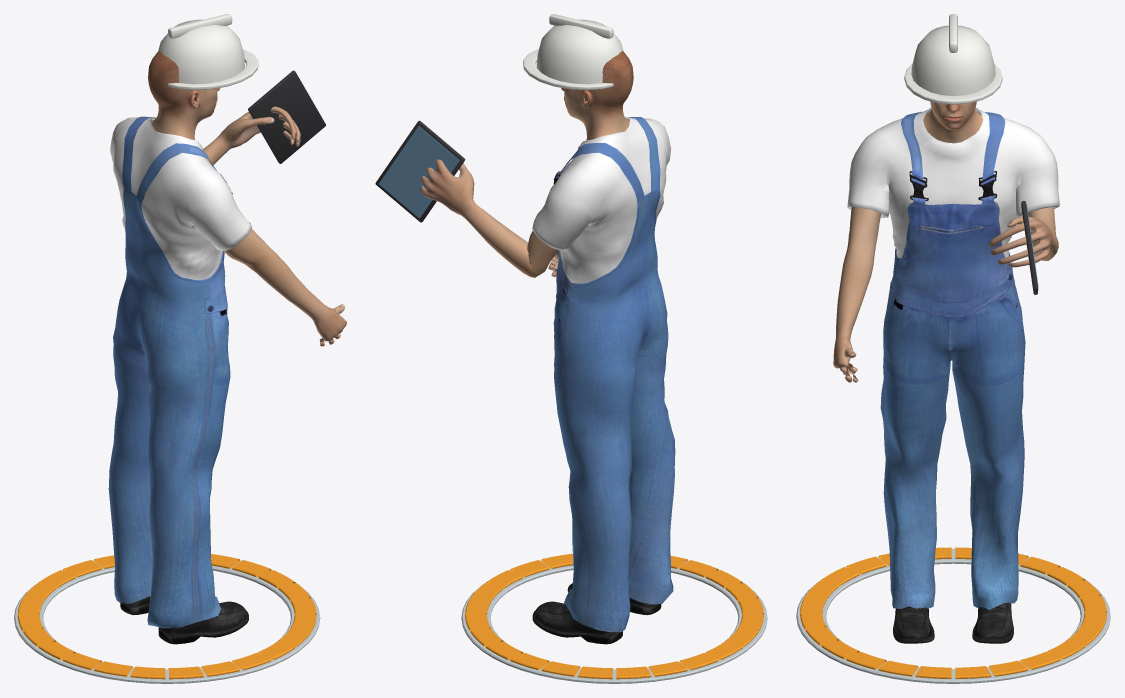
File: MDO-TEC-001.glb
3 renders of one model, left to right at view 1: azimuth 30°, elevation 25°; view 2: azimuth 150°, elevation 25°; view 3: azimuth 270°, elevation 25°, orthographic. The views are drawn at different scales.
Visible parts, largest first — view 1: MDO-TEC-001_pessoa_male_worksuit01, MDO-TEC-001_pessoa, MDO-TEC-001_capacete, MDO-TEC-001_anel_fundo, MDO-TEC-001_ferE_tablet, MDO-TEC-001_pessoa_shoes04, MDO-TEC-001_capacete_aba, MDO-TEC-001_capacete_friso; view 2: MDO-TEC-001_pessoa_male_worksuit01, MDO-TEC-001_pessoa, MDO-TEC-001_capacete, MDO-TEC-001_anel_fundo, MDO-TEC-001_ferE_tela, MDO-TEC-001_pessoa_shoes04, MDO-TEC-001_ferE_tablet, MDO-TEC-001_capacete_aba, MDO-TEC-001_capacete_friso; view 3: MDO-TEC-001_pessoa_male_worksuit01, MDO-TEC-001_pessoa, MDO-TEC-001_capacete, MDO-TEC-001_anel_fundo, MDO-TEC-001_pessoa_shoes04, MDO-TEC-001_capacete_aba, MDO-TEC-001_ferE_tablet.
Boxes of the visible parts, bbox=[...] form: MDO-TEC-001_pessoa_male_worksuit01: bbox=[108, 116, 252, 628]; MDO-TEC-001_pessoa: bbox=[148, 51, 346, 346]; MDO-TEC-001_capacete: bbox=[158, 19, 244, 84]; MDO-TEC-001_anel_fundo: bbox=[14, 560, 320, 683]; MDO-TEC-001_ferE_tablet: bbox=[248, 70, 325, 163]; MDO-TEC-001_pessoa_shoes04: bbox=[120, 596, 248, 644]; MDO-TEC-001_capacete_aba: bbox=[168, 49, 258, 90]; MDO-TEC-001_capacete_friso: bbox=[168, 14, 232, 38]; MDO-TEC-001_pessoa_male_worksuit01: bbox=[532, 117, 675, 632]; MDO-TEC-001_pessoa: bbox=[420, 51, 633, 277]; MDO-TEC-001_capacete: bbox=[536, 19, 623, 84]; MDO-TEC-001_anel_fundo: bbox=[461, 560, 767, 683]; MDO-TEC-001_ferE_tela: bbox=[379, 126, 459, 218]; MDO-TEC-001_pessoa_shoes04: bbox=[532, 582, 661, 644]; MDO-TEC-001_ferE_tablet: bbox=[375, 120, 465, 222]; MDO-TEC-001_capacete_aba: bbox=[523, 49, 613, 90]; MDO-TEC-001_capacete_friso: bbox=[549, 14, 613, 38]; MDO-TEC-001_pessoa_male_worksuit01: bbox=[847, 107, 1059, 609]; MDO-TEC-001_pessoa: bbox=[833, 101, 1058, 382]; MDO-TEC-001_capacete: bbox=[911, 25, 995, 95]; MDO-TEC-001_anel_fundo: bbox=[796, 548, 1110, 683]; MDO-TEC-001_pessoa_shoes04: bbox=[893, 602, 1013, 643]; MDO-TEC-001_capacete_aba: bbox=[904, 64, 1002, 104]; MDO-TEC-001_ferE_tablet: bbox=[1021, 201, 1037, 294].
Size of the model in its own units: 1.05 by 1.79 by 0.84.
10 materials, 5 textured.
